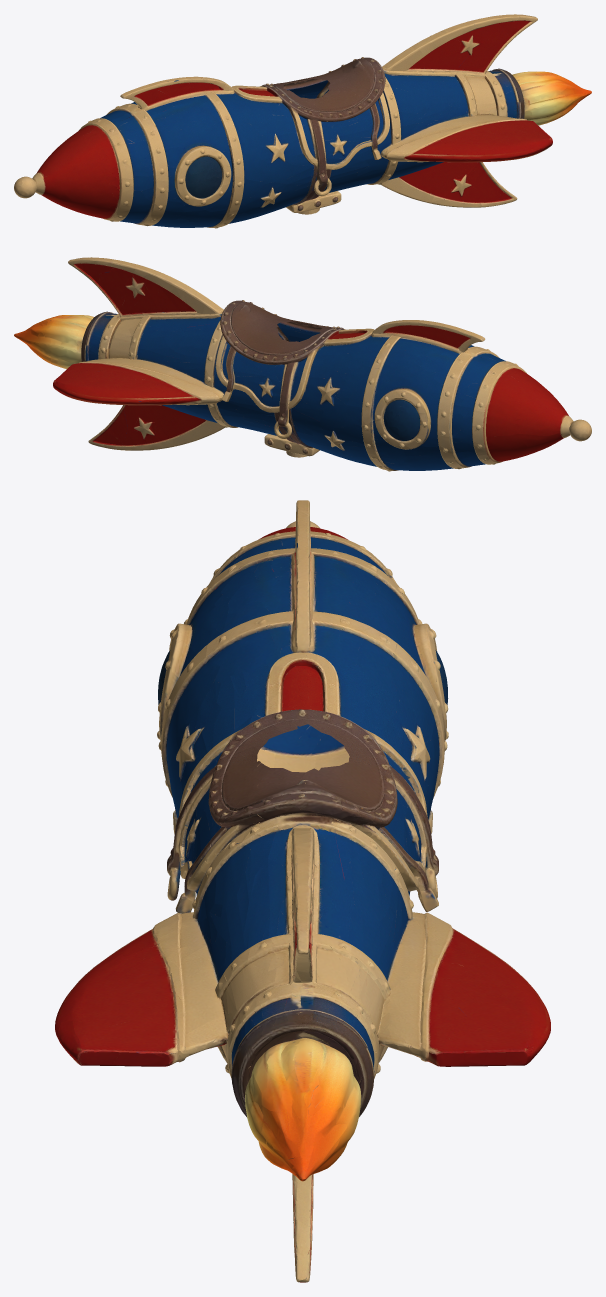
File: rocket.glb
The picture shows the model from 3 angles, top to bottom: view 1: azimuth 30°, elevation 25°; view 2: azimuth 150°, elevation 25°; view 3: azimuth 270°, elevation 25°; orthographic projection. The views are drawn at different scales.
Size of the model in its own units: 1.9 by 0.6452 by 0.7089.
1 material, 1 textured.
